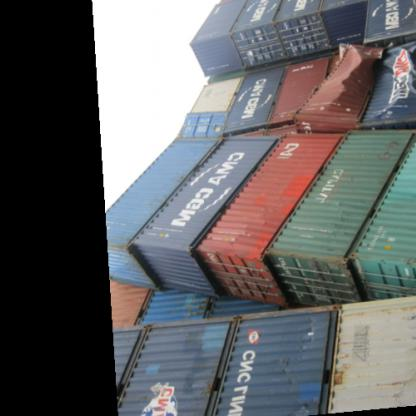Damage: (306, 43, 369, 125), (374, 42, 415, 124)
